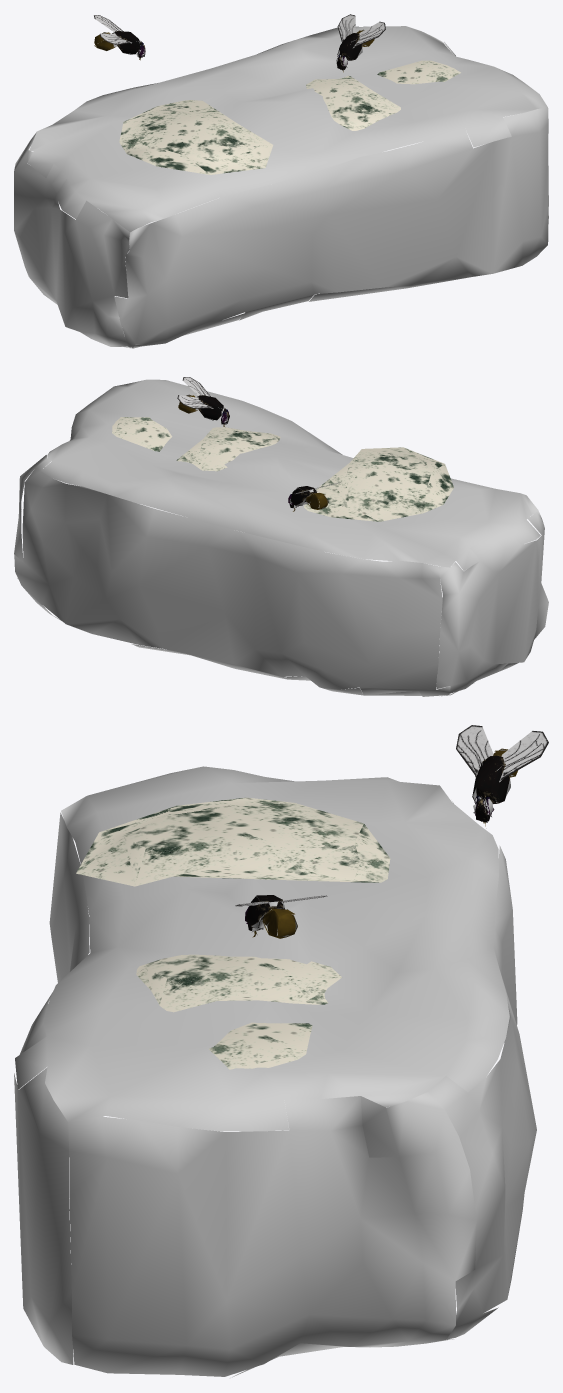
File: meat.gltf
The picture shows the model from 3 angles, top to bottom: view 1: azimuth 30°, elevation 25°; view 2: azimuth 150°, elevation 25°; view 3: azimuth 270°, elevation 25°; orthographic projection. The views are drawn at different scales.
Visible parts, largest first — view 1: RawMeat4_Material #46_0, Ash_low.001, Fly.001_0.003, Fly.001_0.002; view 2: RawMeat4_Material #46_0, Ash_low.001, Fly.001_0.003, Fly.001_0.002; view 3: RawMeat4_Material #46_0, Ash_low.001, Fly.001_0.002, Fly.001_0.003.
Part boxes in pixels (left/top/right/bottom): RawMeat4_Material #46_0: left=14, top=26, right=548, bottom=348; Ash_low.001: left=119, top=60, right=460, bottom=174; Fly.001_0.003: left=336, top=14, right=385, bottom=72; Fly.001_0.002: left=94, top=15, right=145, bottom=60; RawMeat4_Material #46_0: left=14, top=379, right=548, bottom=696; Ash_low.001: left=112, top=417, right=453, bottom=521; Fly.001_0.003: left=177, top=377, right=229, bottom=426; Fly.001_0.002: left=288, top=482, right=340, bottom=511; RawMeat4_Material #46_0: left=14, top=766, right=536, bottom=1377; Ash_low.001: left=76, top=797, right=390, bottom=1069; Fly.001_0.002: left=456, top=725, right=548, bottom=826; Fly.001_0.003: left=235, top=895, right=327, bottom=938.
Size of the model in its own units: 5.97 by 2.82 by 3.4.
